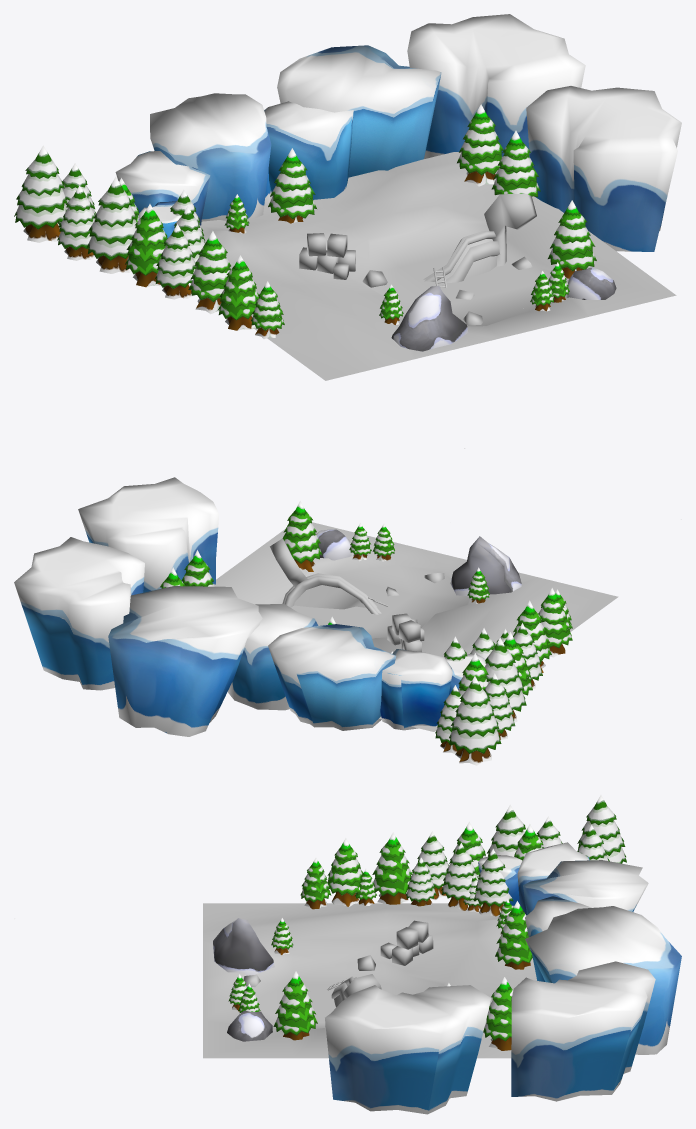
File: Map_1_B_4.FBX
3 views of the same model, one above another, from view 1: azimuth 30°, elevation 25°; view 2: azimuth 150°, elevation 25°; view 3: azimuth 270°, elevation 25° (orthographic). The views are drawn at different scales.
Visible parts, largest first — view 1: tereno2, Iceberg017, Iceberg011, Iceberg013, Iceberg012, Iceberg009, ferry04, Iceberg014, Three055, Three040, Stone008, Three058 (+13 smaller); view 2: tereno2, Iceberg013, Iceberg011, Iceberg012, Iceberg017, Iceberg014, Iceberg009, ferry04, Three055, Stone008, Three056, Three040 (+14 smaller); view 3: tereno2, Iceberg017, Iceberg011, Iceberg013, Iceberg012, Stone008, Three049, Three056, Iceberg014, Three045, Three064, Three047 (+17 smaller).
Part boxes in pixels (x1,y1,x2,y2): tereno2: (201, 152, 676, 380); Iceberg017: (526, 86, 681, 251); Iceberg011: (407, 14, 585, 158); Iceberg013: (277, 45, 441, 177); Iceberg012: (150, 93, 271, 221); Iceberg009: (264, 101, 353, 199); ferry04: (423, 194, 536, 287); Iceberg014: (115, 151, 210, 225); Three055: (14, 145, 66, 242); Three040: (86, 176, 137, 273); Stone008: (391, 285, 468, 351); Three058: (457, 104, 503, 186); tereno2: (214, 522, 618, 731); Iceberg013: (108, 586, 262, 736); Iceberg011: (14, 537, 144, 690); Iceberg012: (268, 624, 396, 730); Iceberg017: (78, 477, 219, 592); Iceberg014: (380, 649, 452, 730); Iceberg009: (228, 604, 318, 710); ferry04: (270, 538, 388, 614); Three055: (449, 676, 501, 765); Stone008: (450, 536, 521, 596); Three056: (282, 501, 322, 571); Three040: (484, 637, 526, 722); tereno2: (203, 903, 536, 1058); Iceberg017: (325, 985, 490, 1114); Iceberg011: (511, 961, 655, 1101); Iceberg013: (525, 906, 681, 1054); Iceberg012: (523, 860, 648, 914); Stone008: (213, 918, 274, 975); Three049: (372, 832, 412, 904); Three056: (273, 971, 317, 1040); Iceberg014: (517, 842, 589, 915); Three045: (327, 838, 363, 906); Three064: (495, 901, 532, 969); Three047: (474, 849, 513, 916).
Size of the model in its own units: 782 by 221 by 911.
